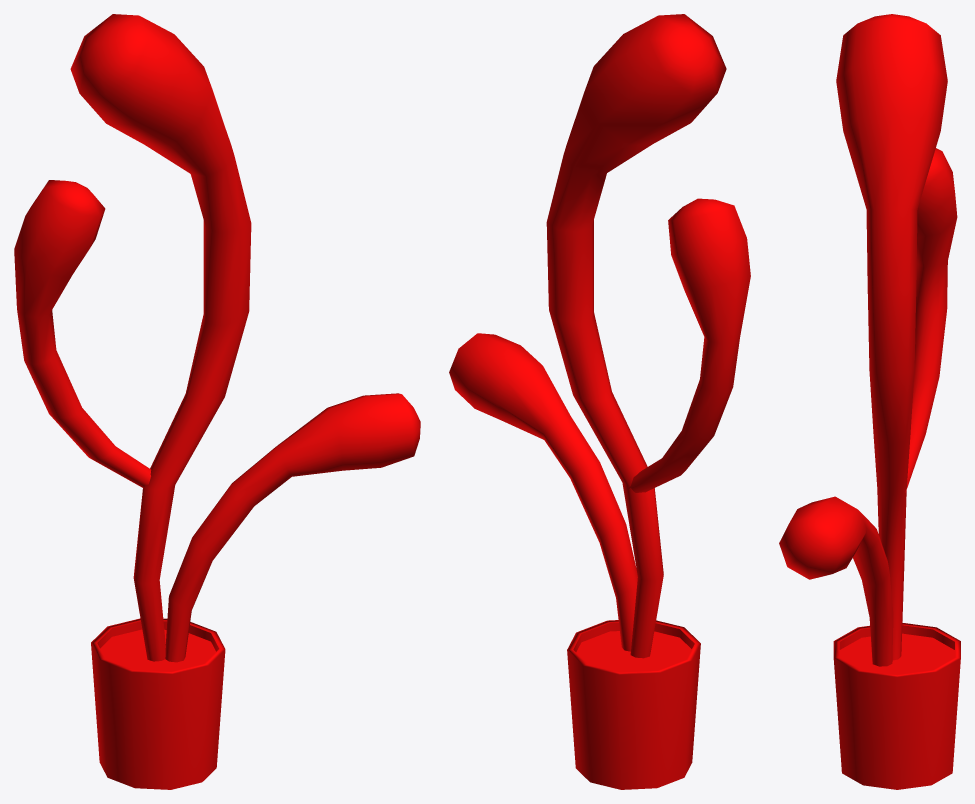
Rendered from Plant.fbx.
The picture shows the model from 3 angles, left to right: view 1: azimuth 30°, elevation 25°; view 2: azimuth 150°, elevation 25°; view 3: azimuth 270°, elevation 25°; orthographic projection. The views are drawn at different scales.
Visible parts, largest first — view 1: pCylinder19, pCylinder18, pCylinder20, pCylinder29; view 2: pCylinder19, pCylinder18, pCylinder20, pCylinder29; view 3: pCylinder19, pCylinder18, pCylinder20, pCylinder29.
Part boxes in pixels (<box>): pCylinder19: <box>70,14,251,661</box>; pCylinder18: <box>91,618,225,789</box>; pCylinder20: <box>165,393,420,662</box>; pCylinder29: <box>14,180,151,488</box>; pCylinder19: <box>546,14,726,658</box>; pCylinder18: <box>567,620,700,789</box>; pCylinder20: <box>449,333,637,651</box>; pCylinder29: <box>628,198,750,492</box>; pCylinder19: <box>836,14,947,660</box>; pCylinder18: <box>833,622,960,789</box>; pCylinder20: <box>779,496,893,666</box>; pCylinder29: <box>905,148,957,492</box>.
Bounding box in the file's own units: 64.7 × 137 × 30.68.
